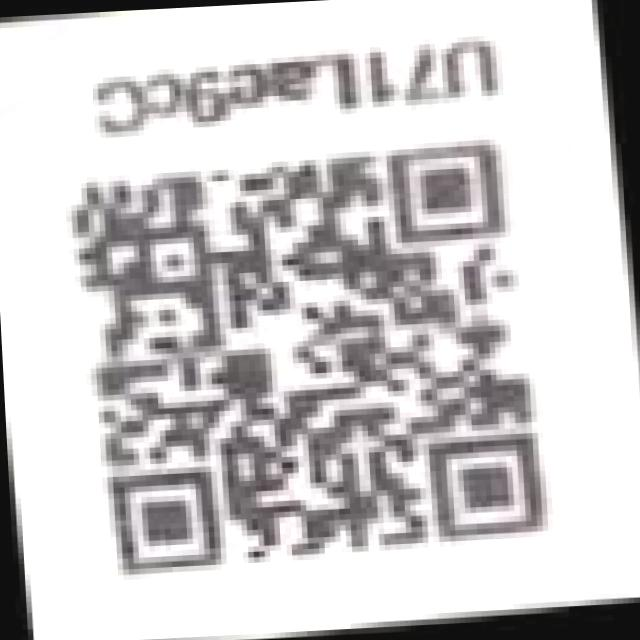QRCode: (47, 120, 584, 606)
